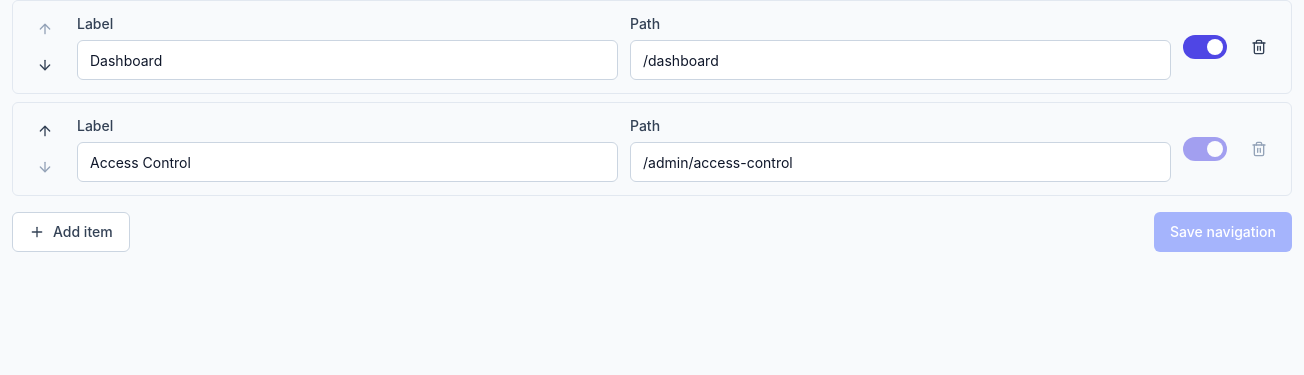
Test: NavConfigEditor › Add item appends a new draft row
Click the button "Add item" at (71, 232), box [12, 212, 130, 252]
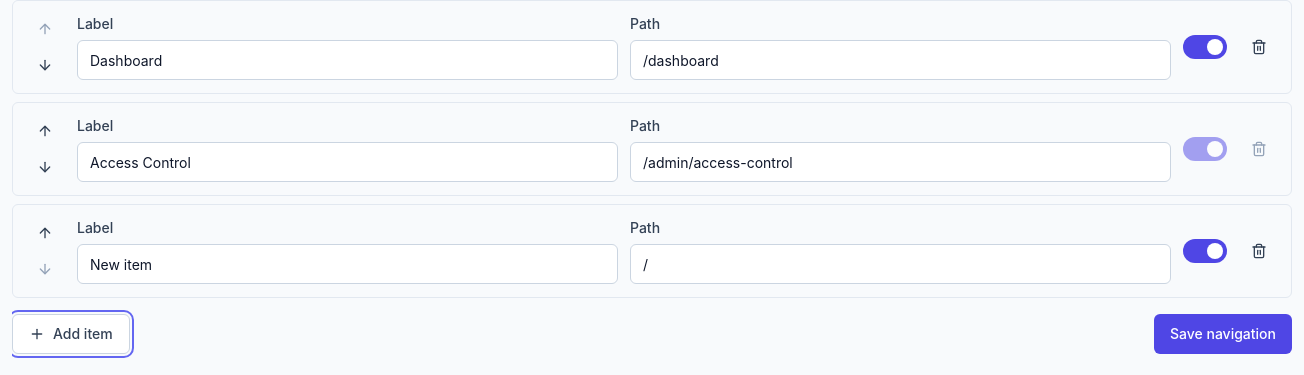
expect the 3rd field showing "New item" is shown: met, box [77, 244, 618, 284]
